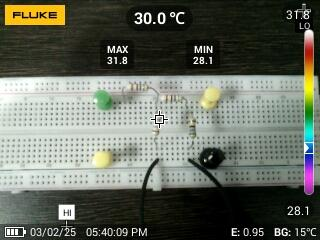resistor: (123, 82, 153, 94), (186, 115, 199, 141), (150, 113, 162, 139), (159, 93, 187, 104)
